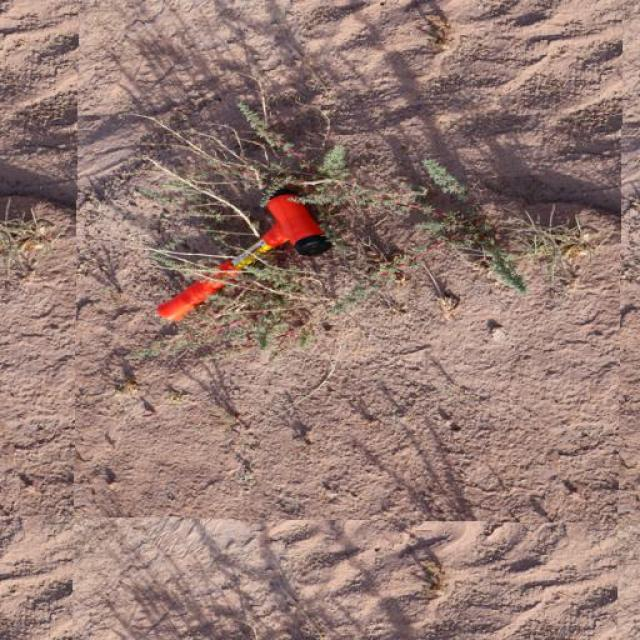mallet: (154, 185, 331, 324)
